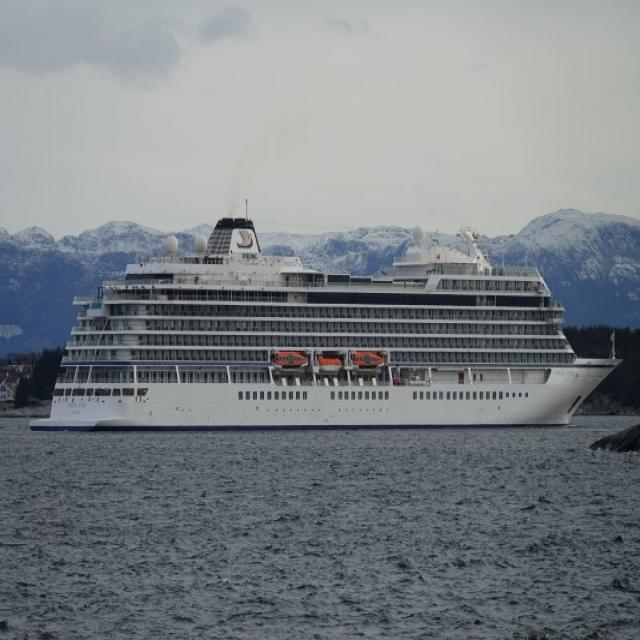cruises: (27, 209, 626, 438)
